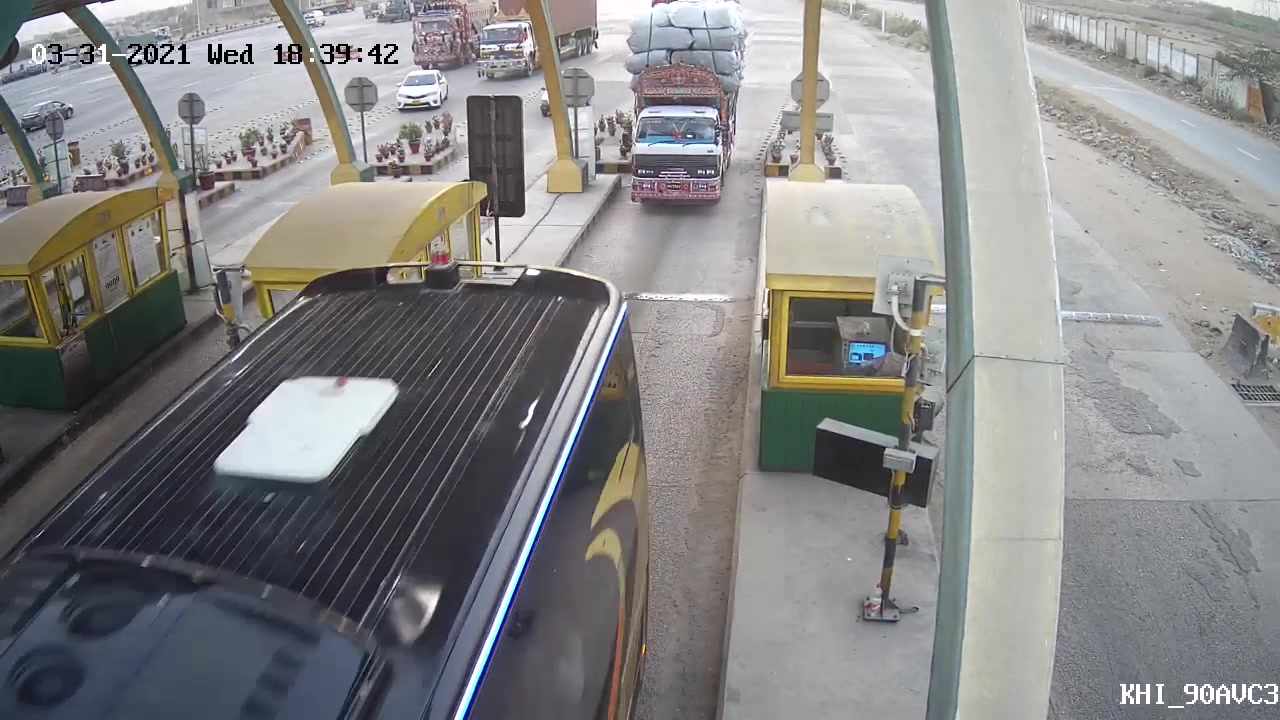F5: (618, 1, 749, 210)
